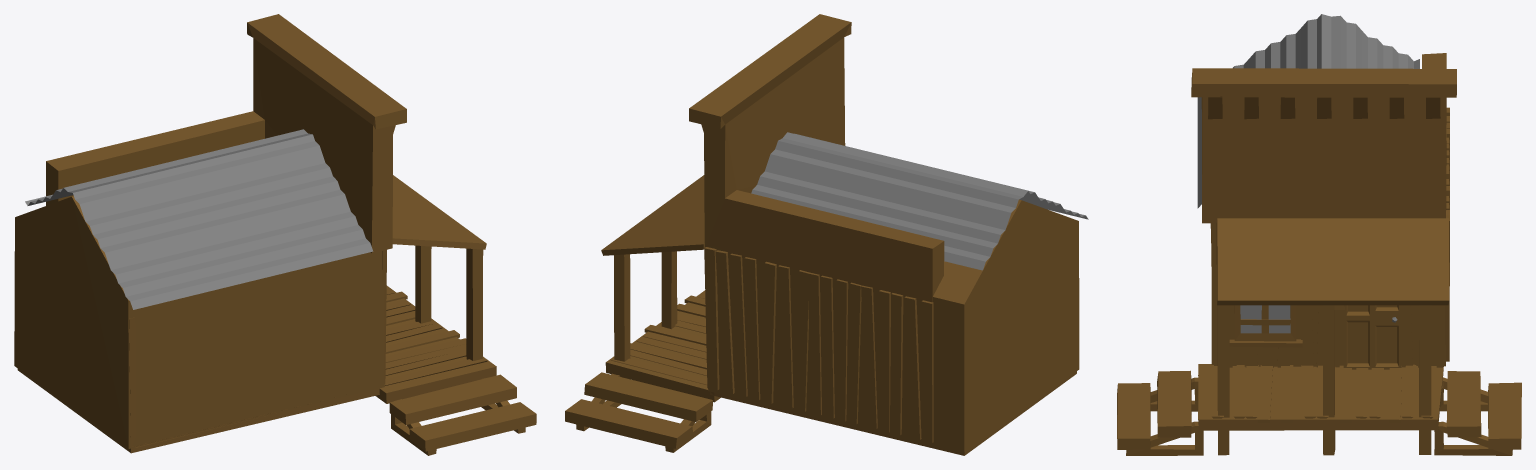
The model's file is casa2 2.fbx.
3 renders of one model, left to right at view 1: azimuth 30°, elevation 25°; view 2: azimuth 150°, elevation 25°; view 3: azimuth 270°, elevation 25°, orthographic. The views are drawn at different scales.
Parts seen in each view (by area): view 1: estermo 2, interno 2; view 2: estermo 2, interno 2; view 3: estermo 2, interno 2, estermo 2.001.
Part boxes in pixels (box(x1,y1,x2,y2)): estermo 2: box(14, 14, 486, 448); interno 2: box(17, 285, 536, 455); estermo 2: box(601, 14, 1088, 453); interno 2: box(565, 290, 1076, 455); estermo 2: box(1191, 14, 1456, 455); interno 2: box(1117, 305, 1521, 455); estermo 2.001: box(1210, 223, 1445, 369).
Size of the model in its own units: 289 by 241 by 269.
